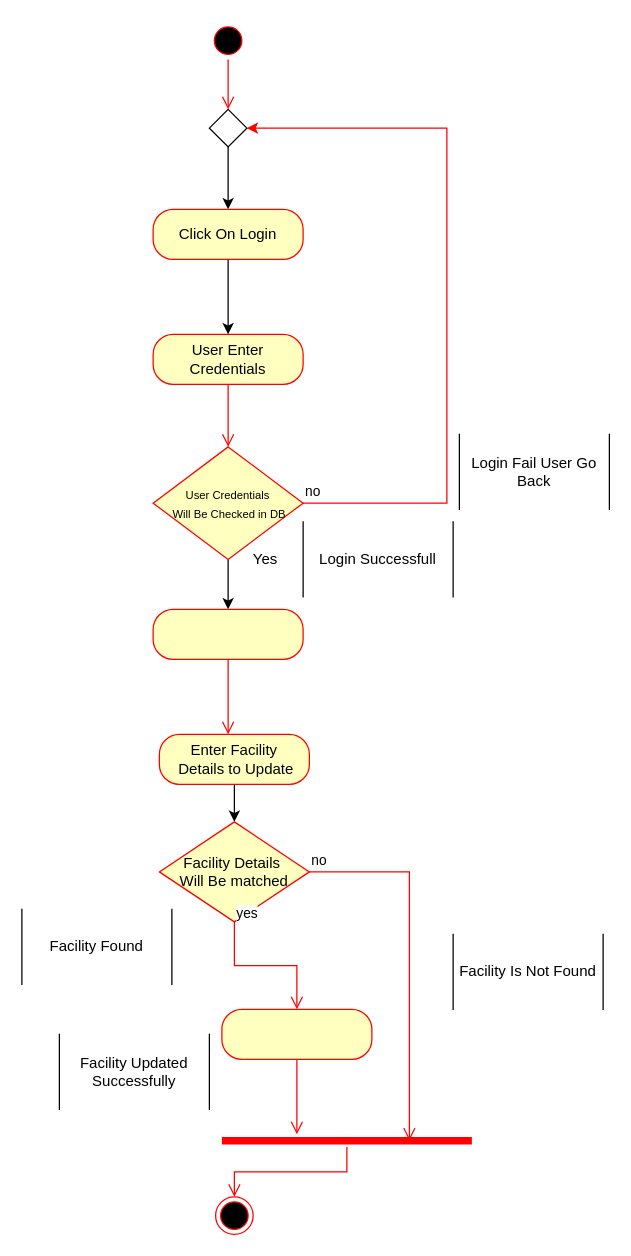
Image size: 631x1256. Some labels were removed from this diagram. Here are the shapes that lost their labels. From the top down, the centre of each, then its label:
At (227,633): "Click On Update Facility".
At (296,1033): "Enter Updated Facility Details".
